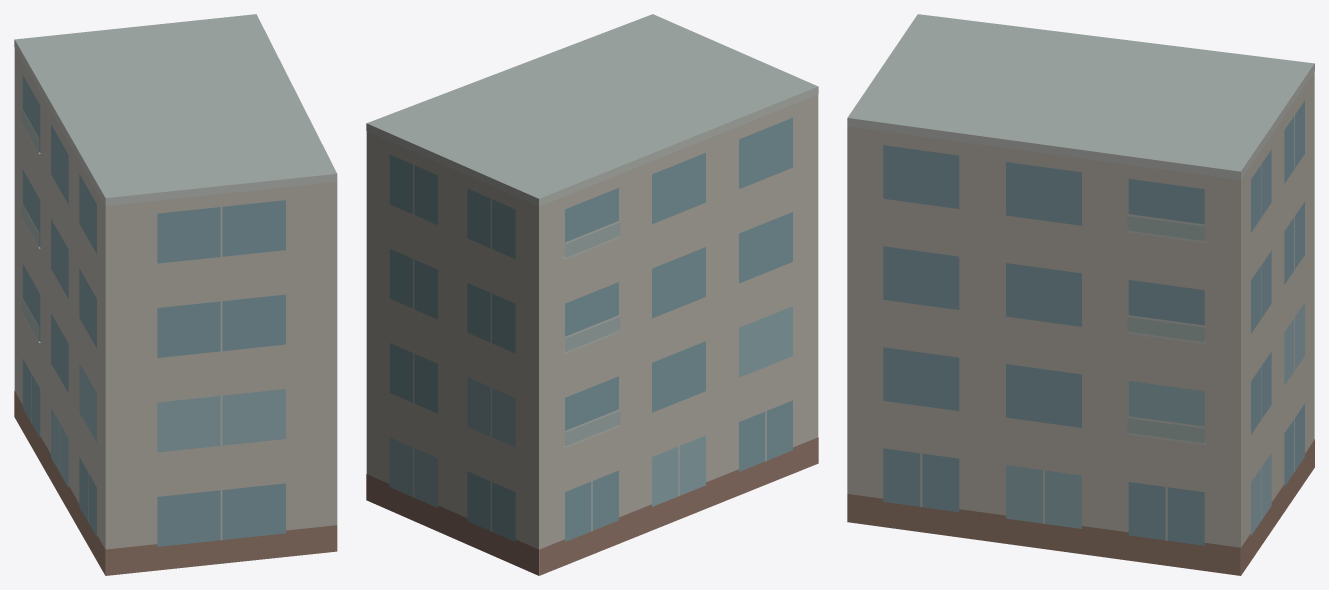
The model's file is survey-upis-32897083.glb.
3 renders of one model, left to right at view 1: azimuth 30°, elevation 25°; view 2: azimuth 150°, elevation 25°; view 3: azimuth 270°, elevation 25°, orthographic. The views are drawn at different scales.
Visible parts, largest first — view 1: survey-upis-32897083.tmp; view 2: survey-upis-32897083.tmp; view 3: survey-upis-32897083.tmp.
Part boxes in pixels (x1=…): survey-upis-32897083.tmp: x1=14, y1=14, x2=337, y2=575; survey-upis-32897083.tmp: x1=366, y1=14, x2=818, y2=575; survey-upis-32897083.tmp: x1=847, y1=14, x2=1314, y2=575.
Size of the model in its own units: 9.75 by 11.65 by 12.22.
